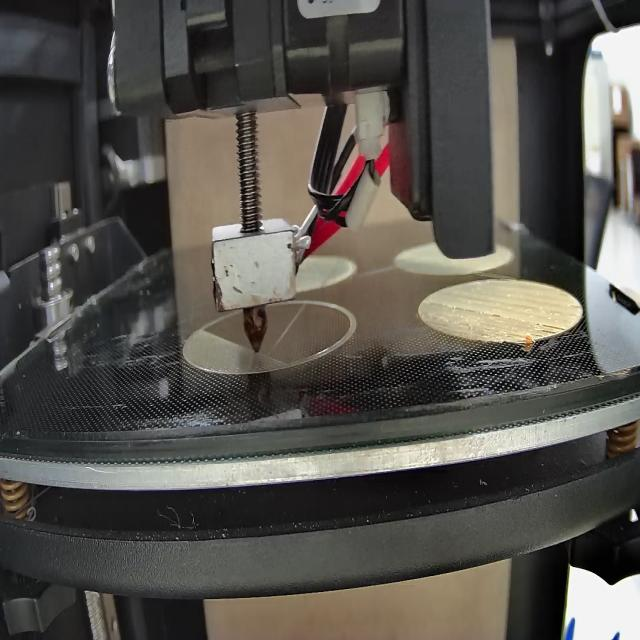under_extrusion: (429, 298, 501, 322), (532, 318, 566, 341), (566, 296, 582, 315)
